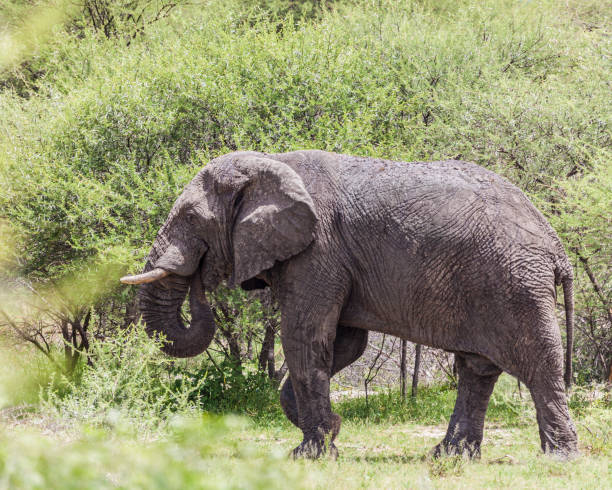africanelephant: (137, 157, 297, 370)
